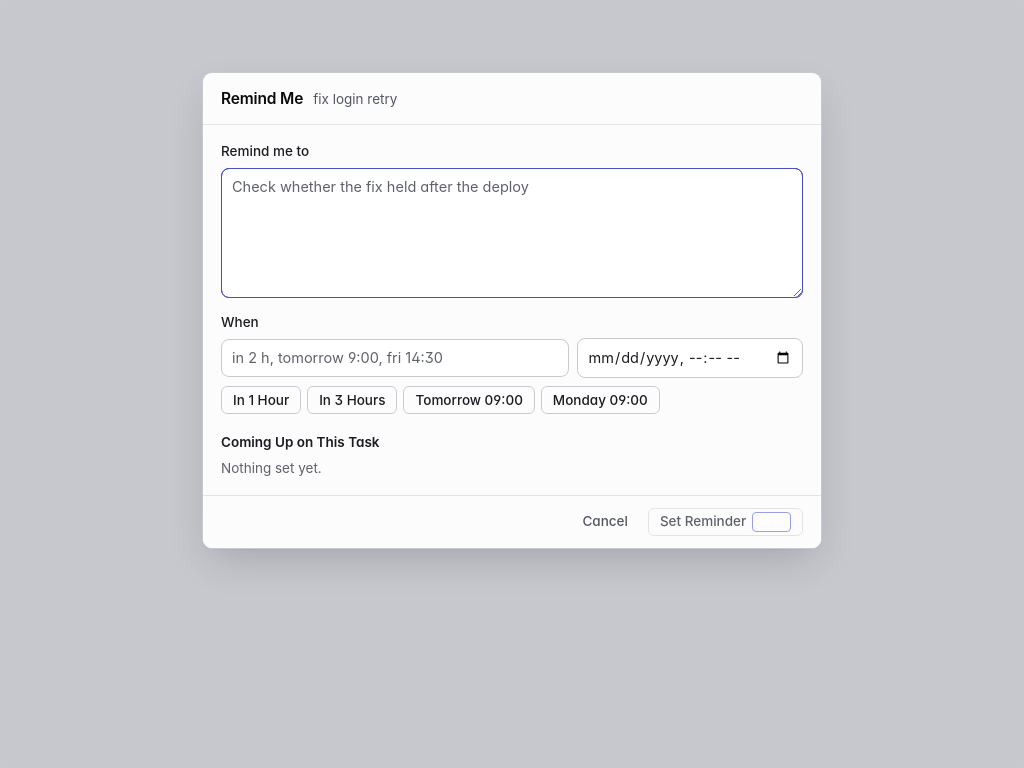
it: RemindDialog › says when it does not understand the time, and when it has passed
Type "x" into the text box labelled "Remind me to" at (512,233), box 221,168 -> 803,298
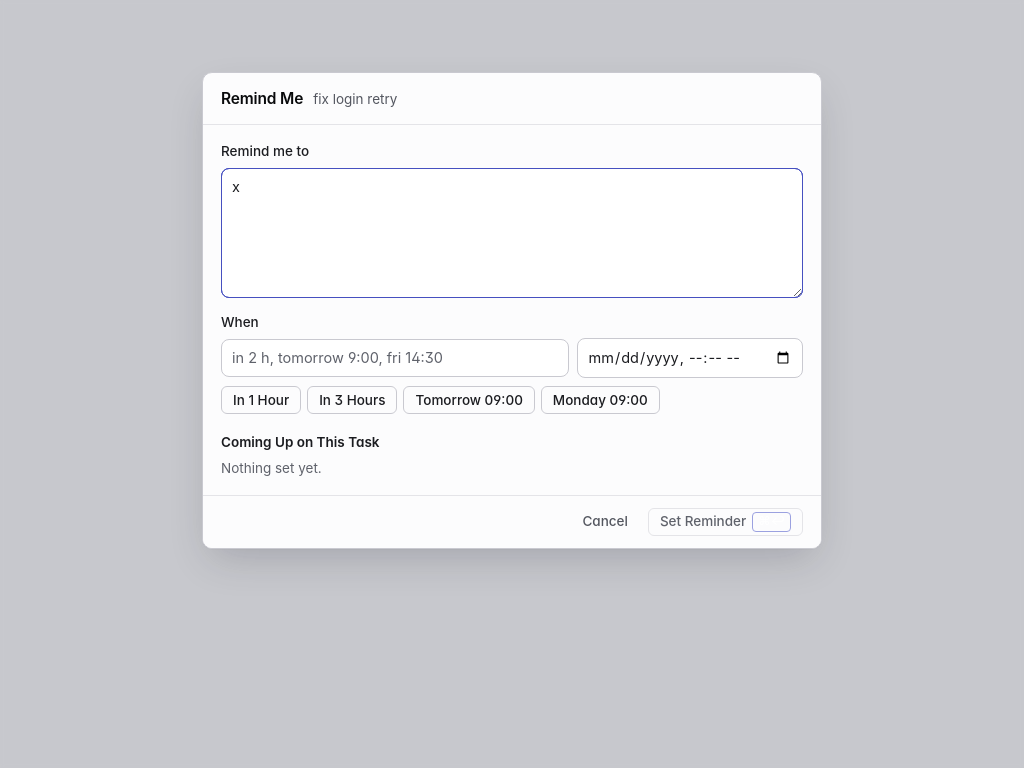
Type "whenever" into the field labelled "When" at (395,358), box 221,339 -> 568,377
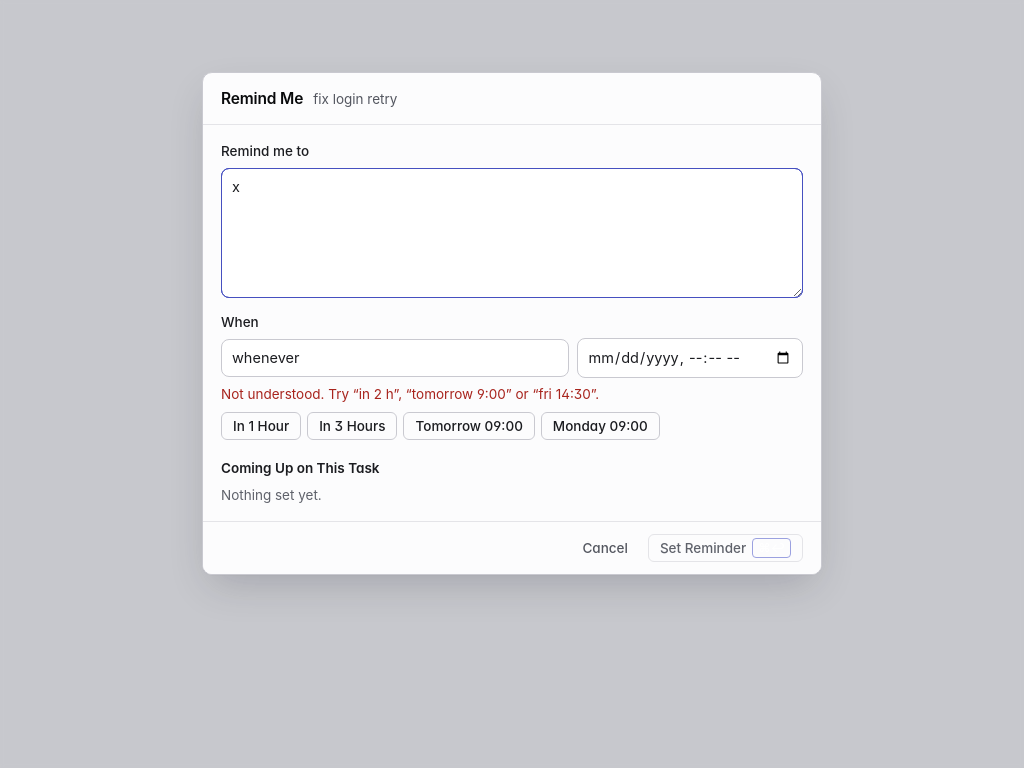
Expected: the message shows "Not understood", 221,386 -> 599,402
Replace the text in the field labelled "When" with "2020-01-01 10:00" at (395,358), box 221,339 -> 568,377
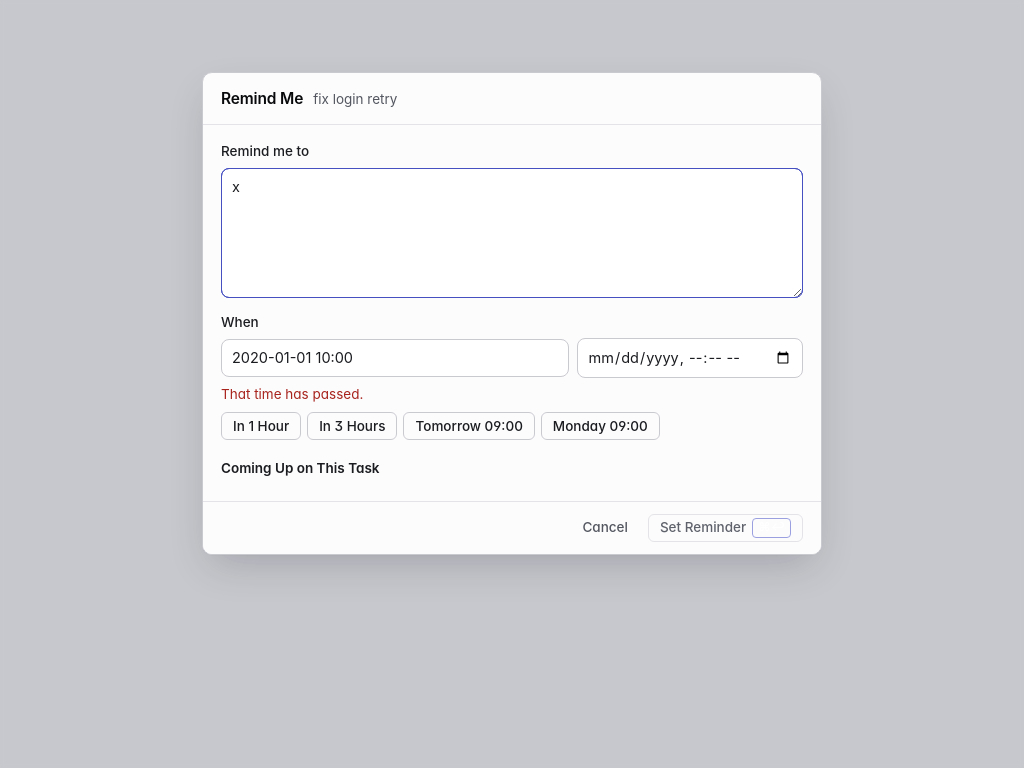
Expected: the button "Set Reminder ⌘↩" is disabled, 648,514 -> 803,542
Expected: the message reads "That time has passed.", 221,386 -> 363,402
